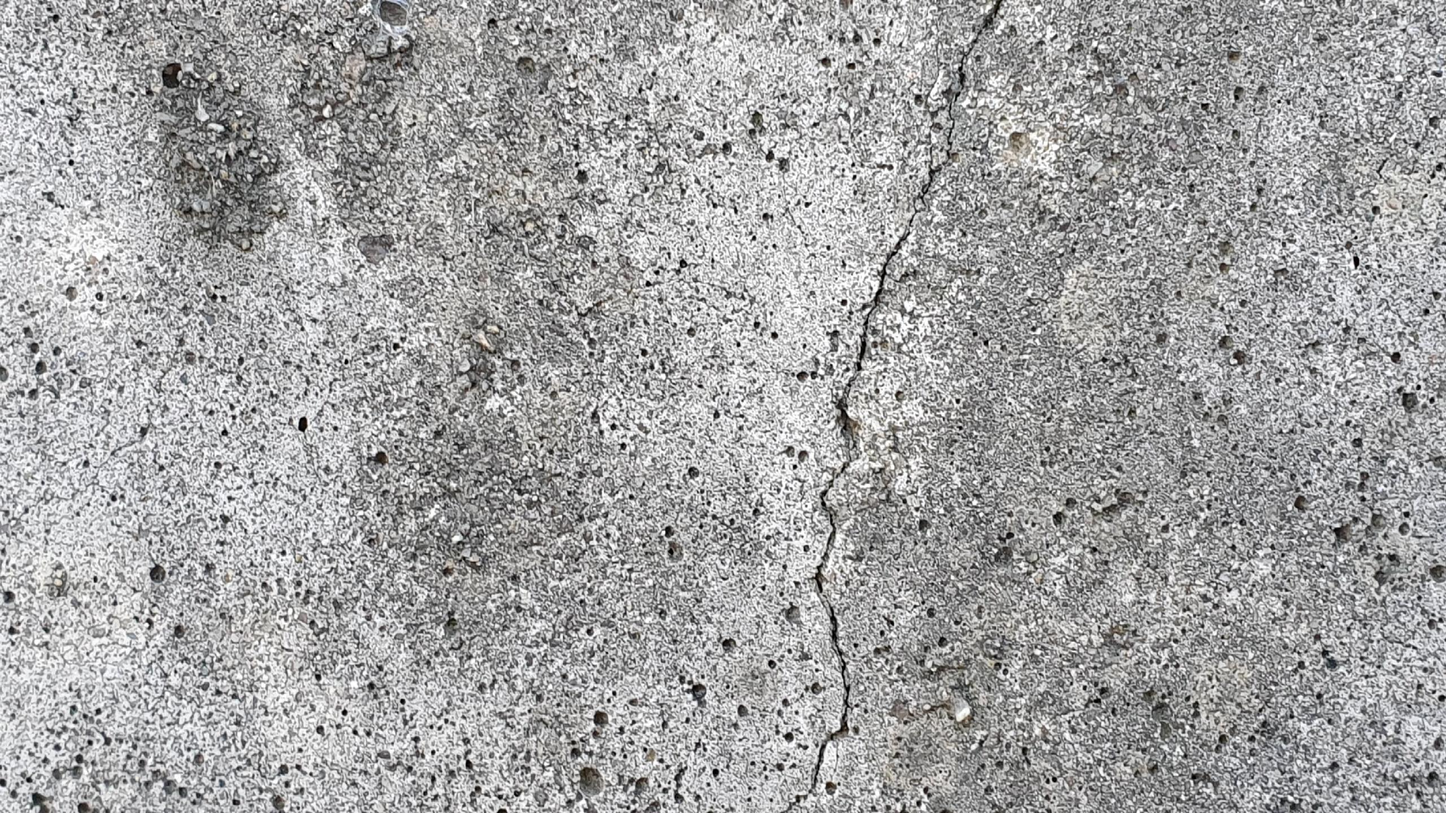crack: (783, 1, 1002, 812)
